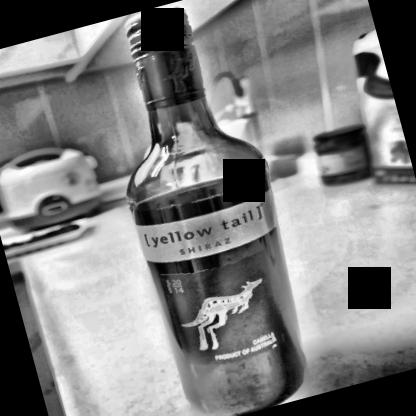yellowtail: (135, 191, 304, 381)
